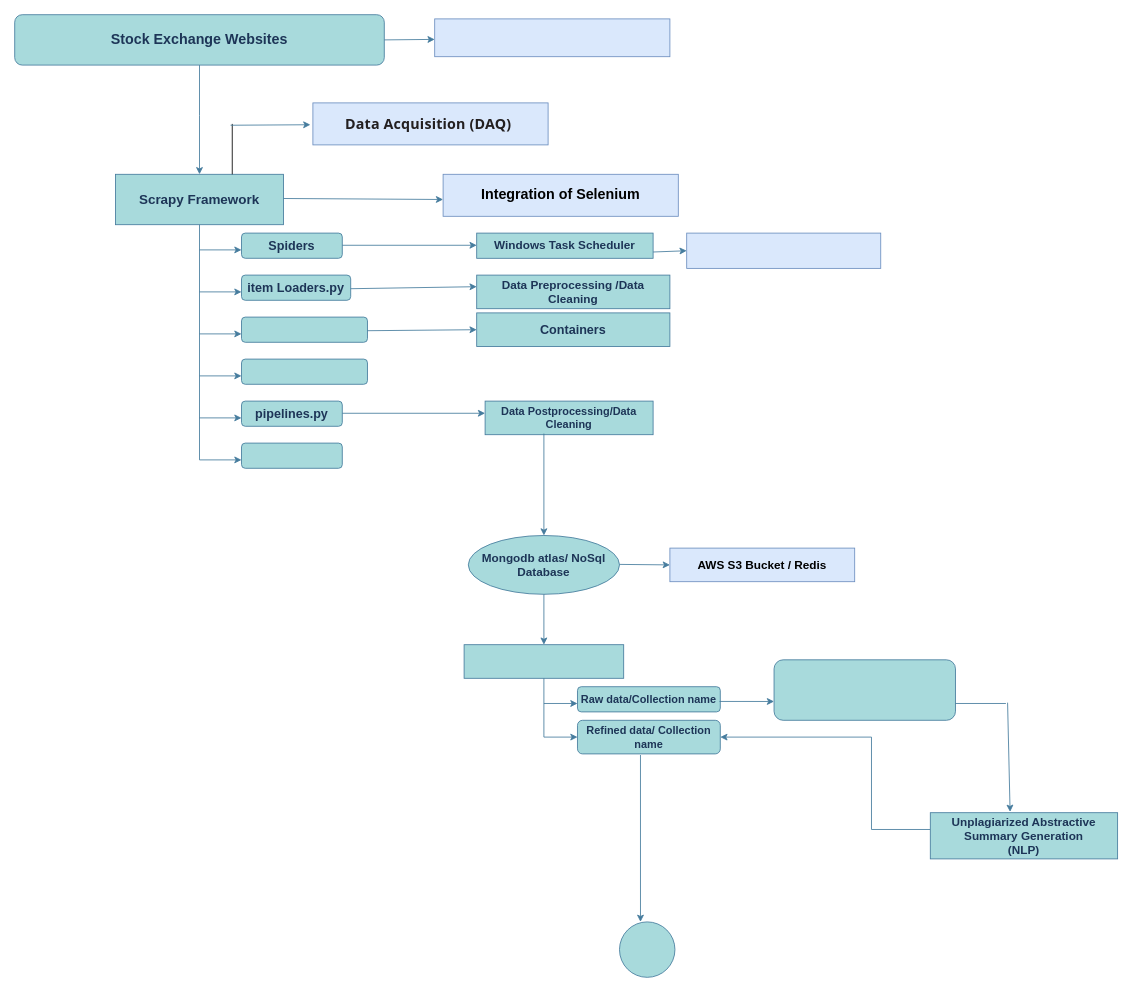
Some shapes in this 1132 by 992 pixel diagram are drawn without their labels. The box of each missing label's shape, as (x1, y1, x2, y2) in pixels:
BART (Bidirectional and Auto-Regressive Transformers)-Fined tuned: (773, 659, 956, 720)
Crone Job (AWS-EC2 instance): (686, 232, 881, 268)
Database Name: (463, 644, 624, 678)
Frontend: (619, 921, 675, 977)
items.py: (241, 316, 368, 342)
m iddlewares.py: (241, 358, 368, 384)
settings.py: (241, 442, 342, 468)
Static or Dynamic: (434, 18, 670, 57)
